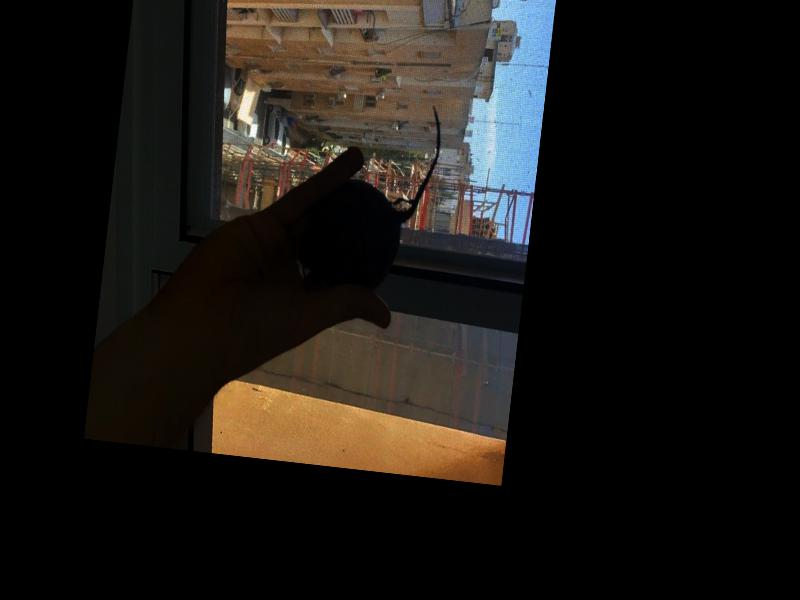Beet: (296, 92, 445, 294)
